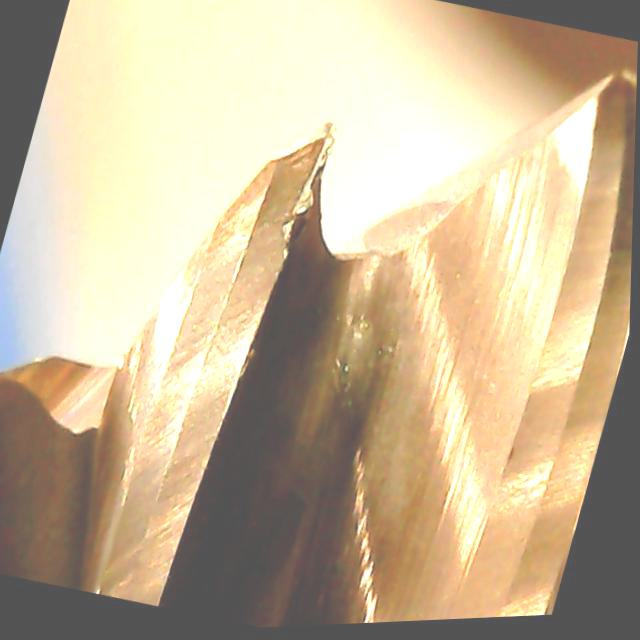Tool-wear-class-1: (139, 92, 355, 447)
